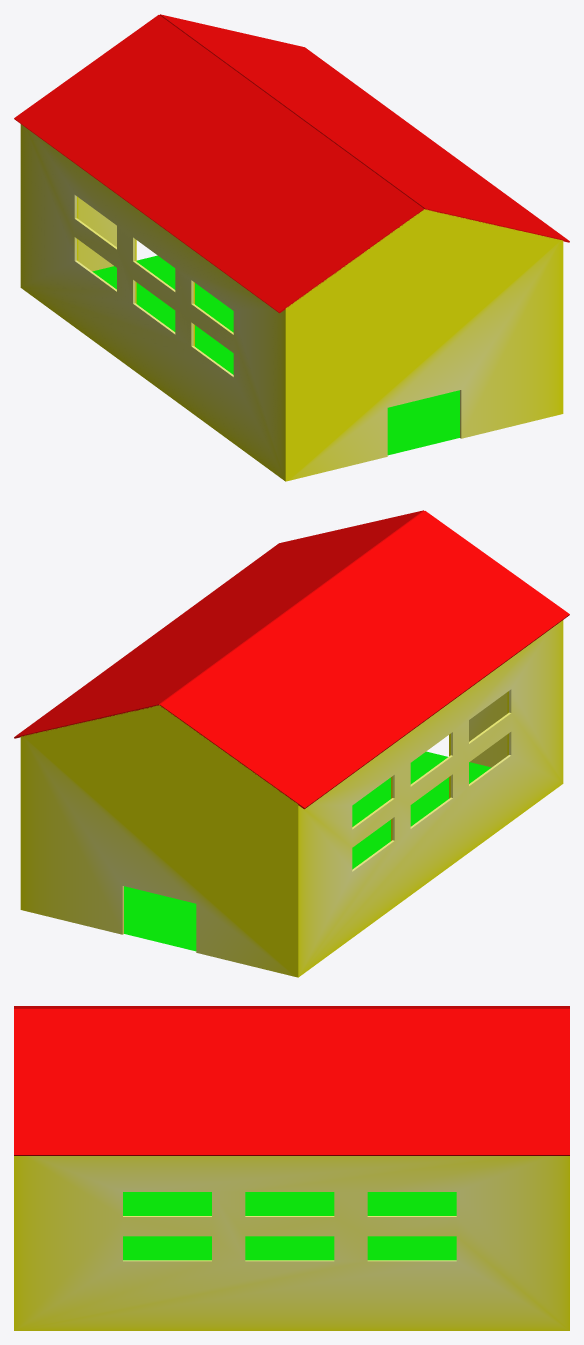
File: WarehouseStructure_v2.fbx
3 views of the same model, one above another, from view 1: azimuth 30°, elevation 25°; view 2: azimuth 150°, elevation 25°; view 3: azimuth 270°, elevation 25° (orthographic). The views are drawn at different scales.
Visible parts, largest first — view 1: uvlayout1; view 2: uvlayout1; view 3: uvlayout1.
Boxes of the visible parts, x1,y1,x2,y2 form: uvlayout1: (14,14,569,481); uvlayout1: (14,510,569,977); uvlayout1: (14,1006,569,1330).
Bounding box in the file's own units: 41.19 × 32.38 × 65.
